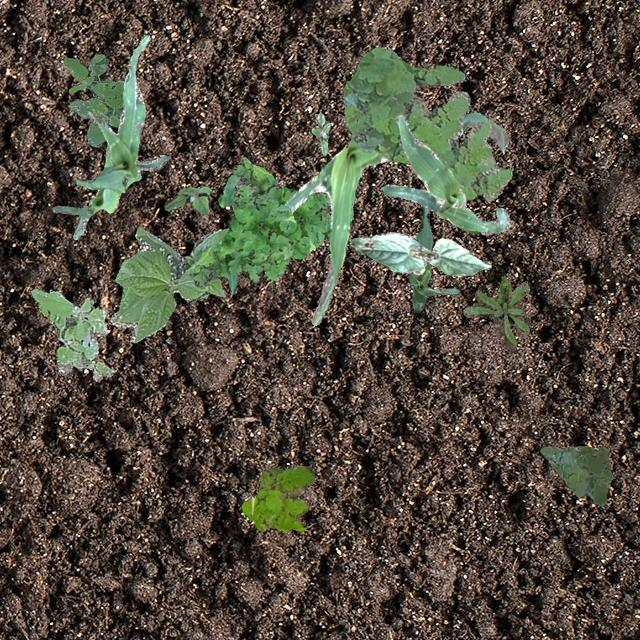crop: (284, 112, 508, 326), (380, 114, 510, 234), (75, 35, 168, 192), (110, 226, 228, 342), (51, 146, 140, 238), (348, 230, 489, 276), (408, 204, 458, 312)
weed: (342, 46, 512, 200), (186, 172, 300, 292), (230, 156, 330, 258), (30, 288, 112, 380), (62, 54, 122, 146), (462, 274, 530, 350), (240, 464, 314, 530), (538, 444, 612, 504), (163, 184, 210, 214), (310, 110, 330, 154)
